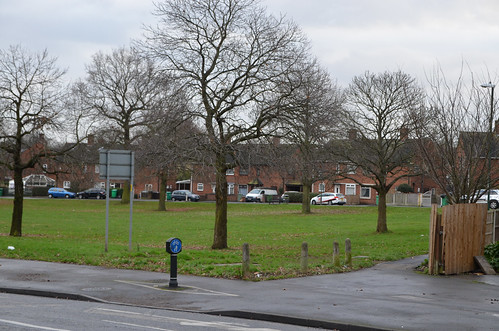car: (307, 187, 350, 208), (242, 183, 279, 204), (162, 188, 203, 205), (77, 184, 109, 203), (45, 184, 76, 202)
grass: (1, 196, 441, 263)
sidewalk: (21, 255, 499, 331)
sky: (19, 1, 499, 100)
tree: (163, 4, 302, 238), (315, 73, 442, 230), (1, 67, 90, 240), (86, 52, 185, 207), (279, 76, 351, 208)
